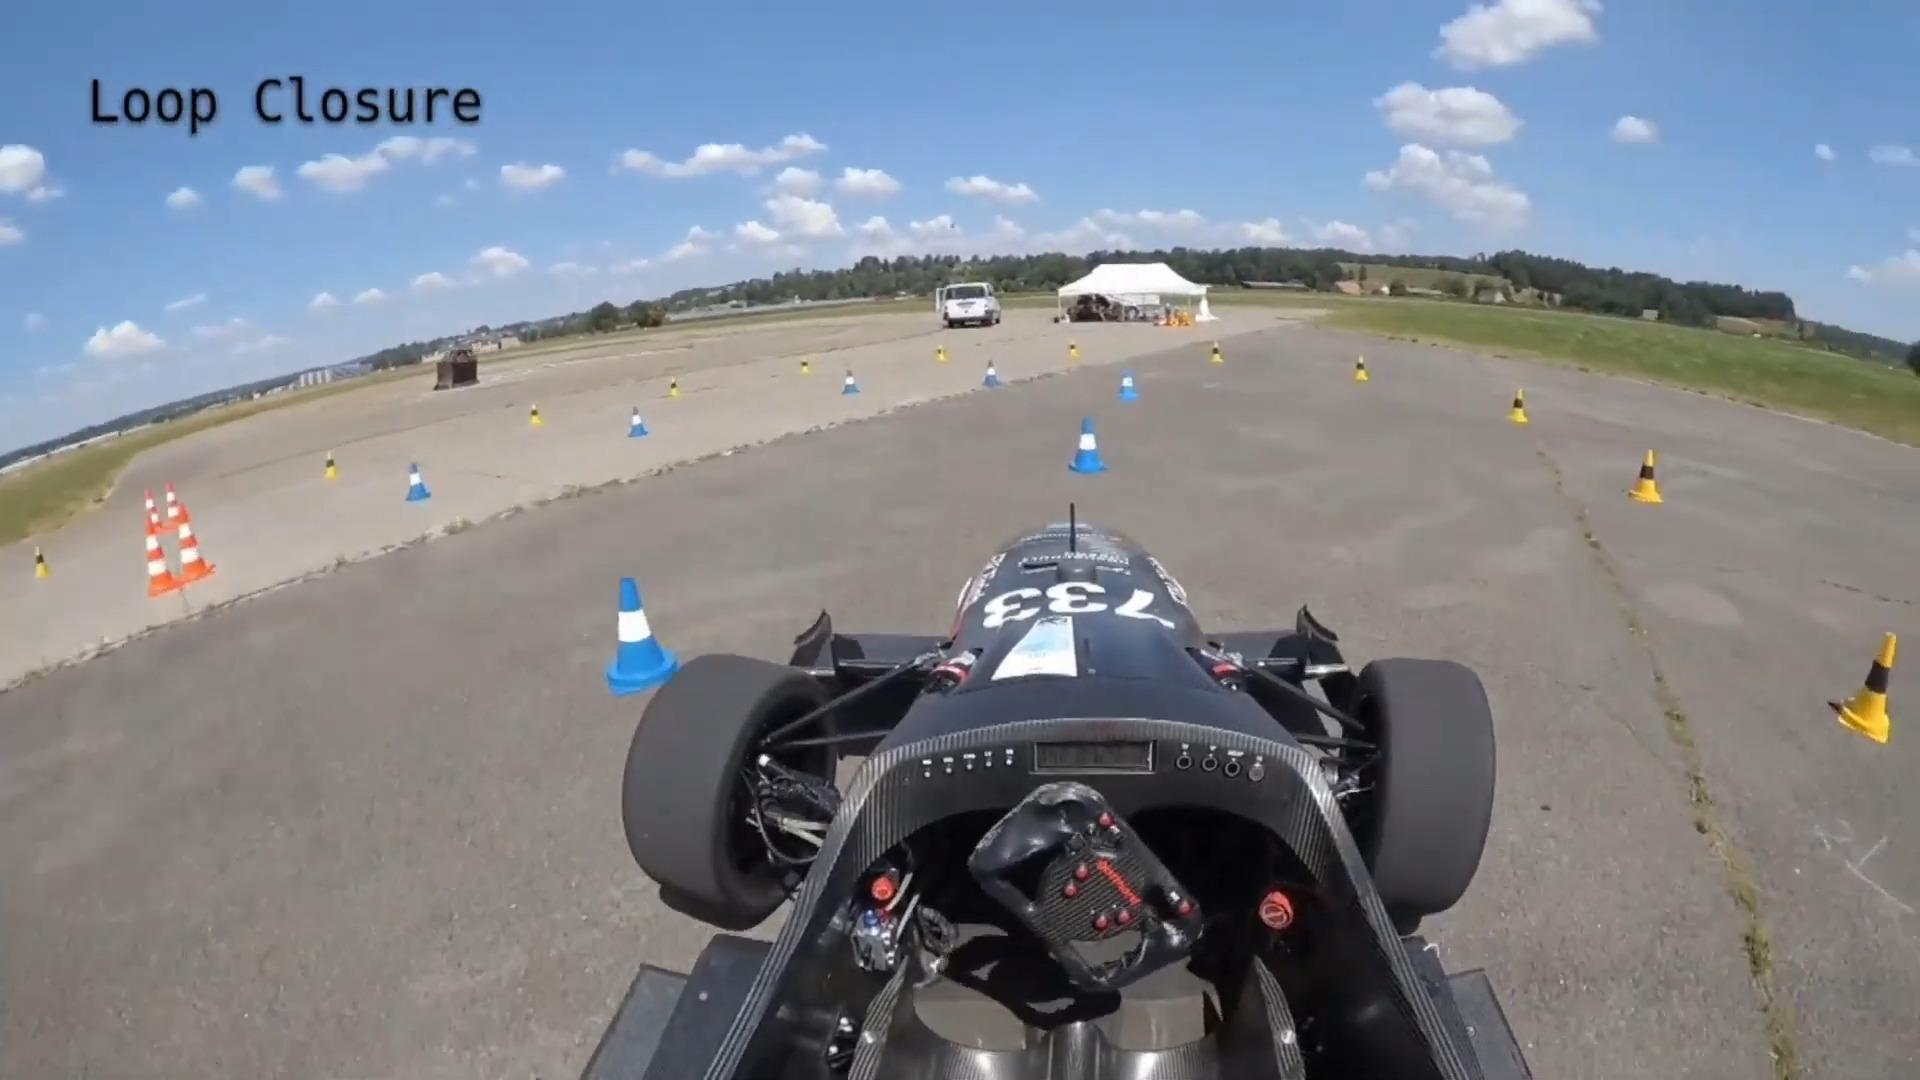blue_cone: (596, 575, 682, 698), (1067, 414, 1109, 475), (405, 459, 433, 504), (1116, 365, 1141, 404), (980, 357, 1004, 390), (626, 405, 647, 440), (840, 369, 861, 396)
large_orange_cone: (137, 527, 182, 601), (175, 505, 215, 583), (140, 484, 165, 534), (161, 479, 187, 524)
yellow_cone: (1830, 624, 1900, 748), (1626, 443, 1665, 508), (1506, 386, 1530, 427), (30, 545, 53, 579), (323, 451, 342, 480), (1352, 355, 1370, 384), (1209, 338, 1225, 365), (529, 402, 545, 427), (1067, 340, 1081, 361)
